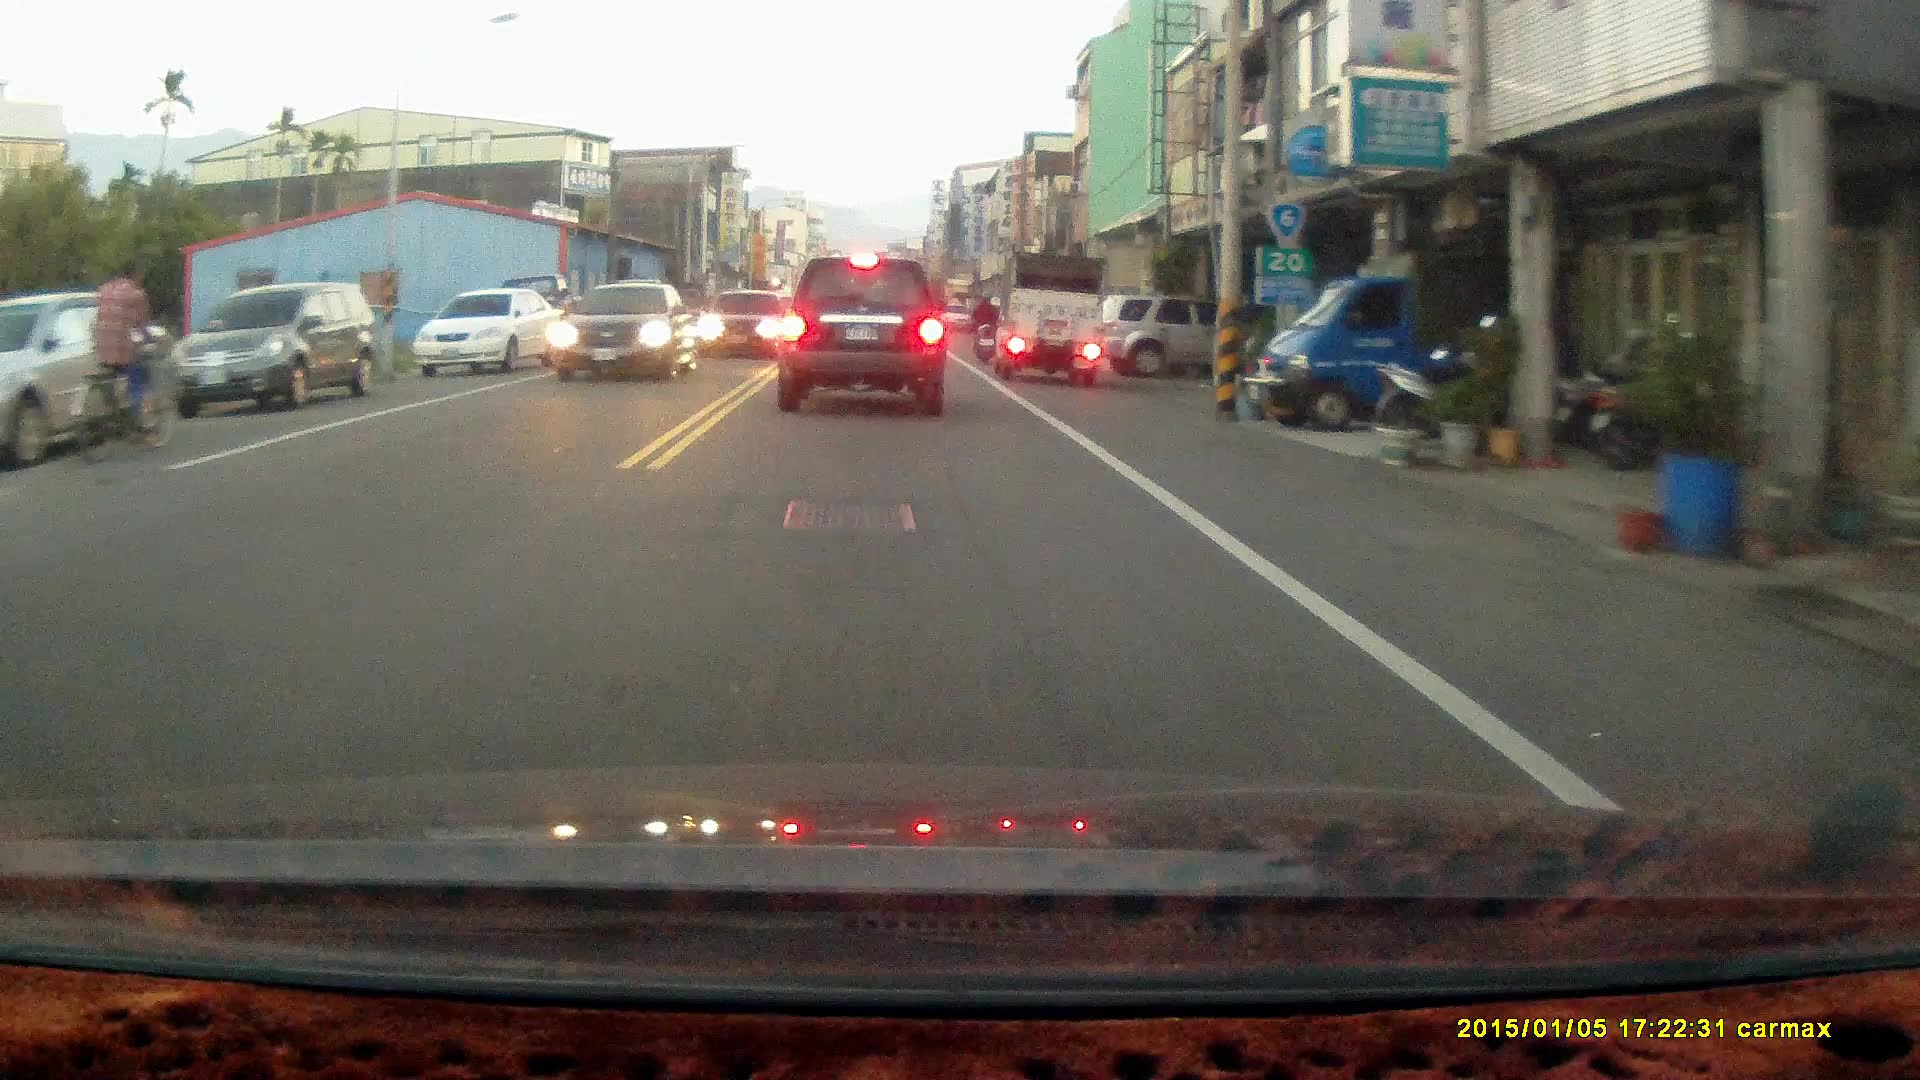rider: (67, 254, 181, 468), (967, 283, 1002, 362)
vehicle: (1264, 219, 1512, 434), (1, 290, 196, 464), (161, 279, 384, 412), (774, 257, 948, 421), (551, 279, 694, 384), (1000, 250, 1106, 384), (417, 286, 569, 376), (1101, 290, 1212, 380), (701, 288, 789, 358)
